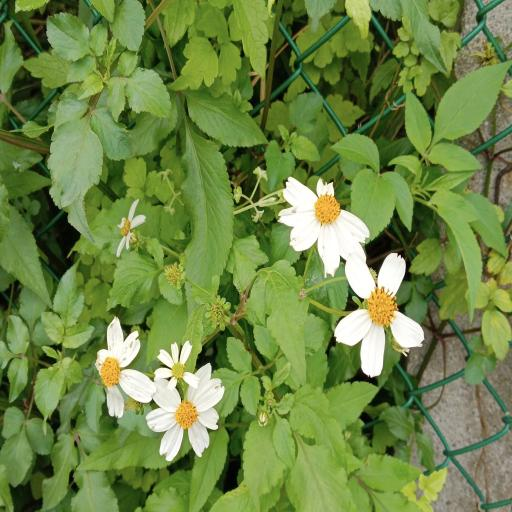Bidens: (330, 253, 426, 379), (279, 177, 369, 278), (147, 363, 224, 461), (96, 317, 156, 417)
